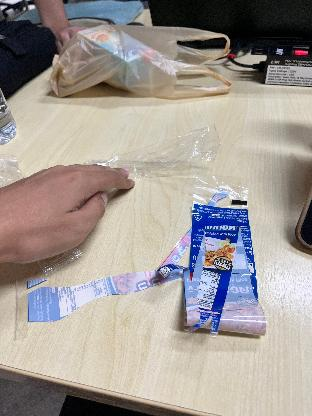Others: (148, 188, 268, 354), (94, 118, 232, 194)
